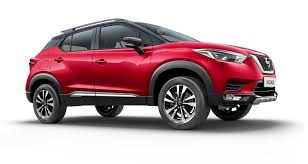Nissan: (33, 28, 278, 119)
